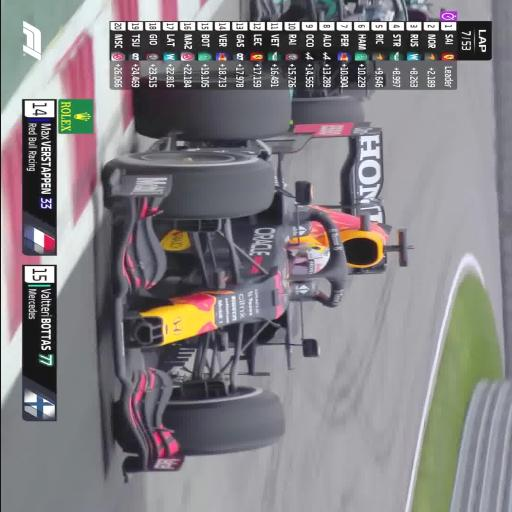f1_car: (102, 87, 411, 479), (293, 99, 298, 102), (295, 102, 297, 104)
